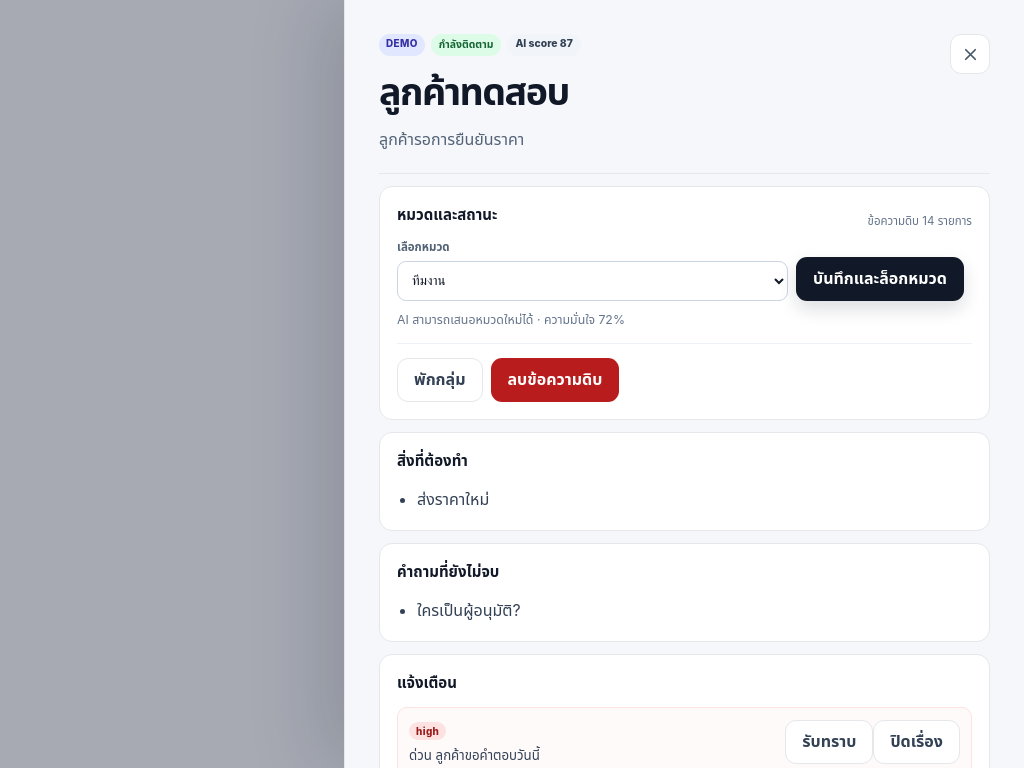
Test: group detail and guarded controls › can resolve an alert directly from group detail
This screenshot has width=1024, height=768.
Expected: the text "ด่วน ลูกค้าขอคำตอบวันนี้" is shown, x1=409 y1=746 x2=540 y2=766
Click the button "ปิดเรื่อง" at (917, 742), box x1=873 y1=720 x2=960 y2=764
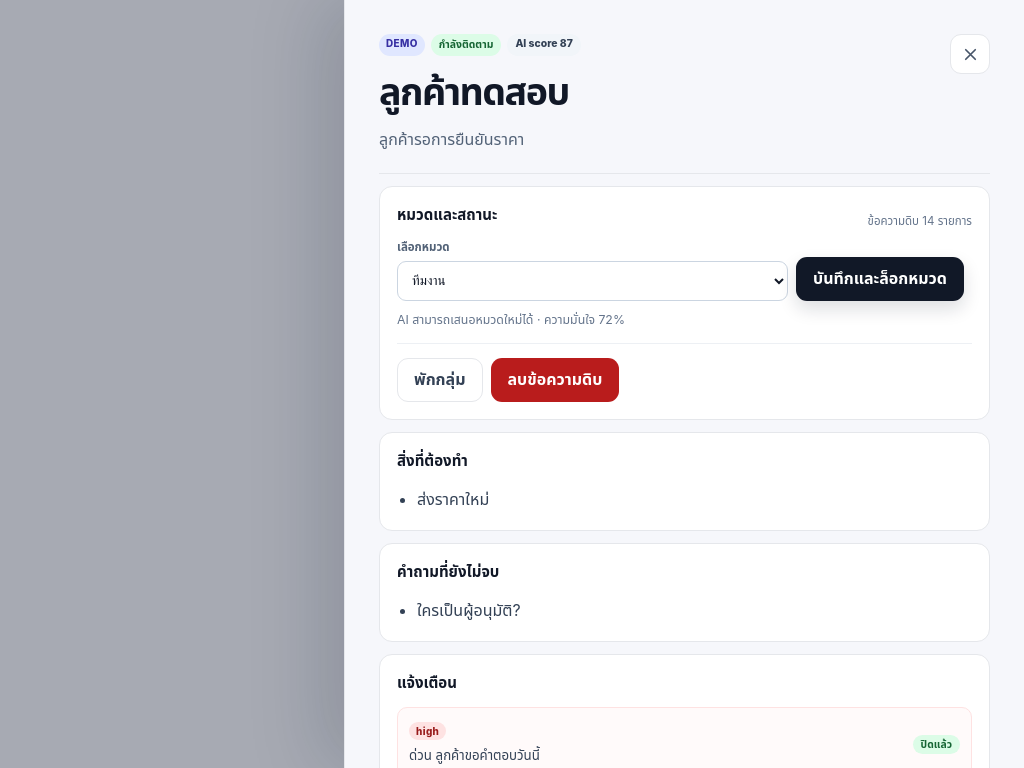
Expected: the text "ปิดแล้ว" is shown, x1=913 y1=735 x2=960 y2=754
